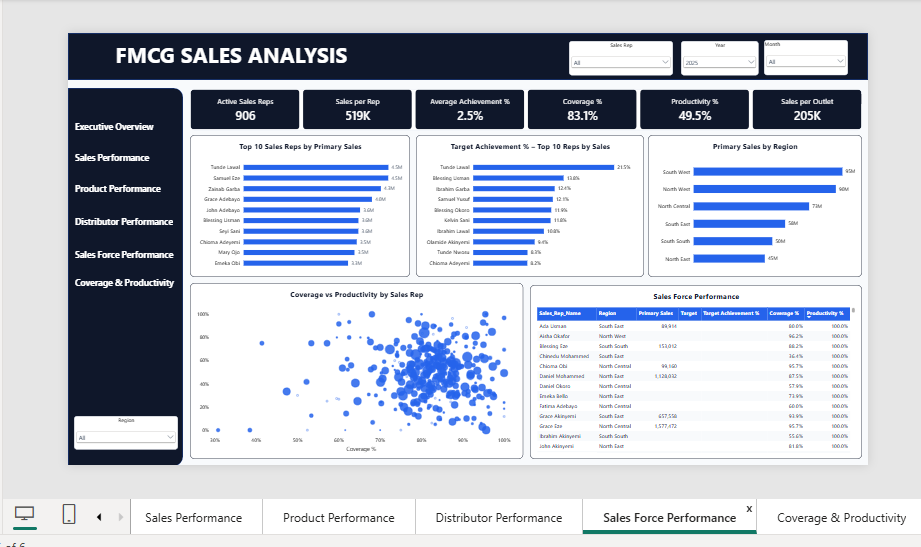

What the dashboard file says about the page in this screenshot:
{"tool":"powerbi","page":{"name":"Sales Force Performance","canvas":[2000,1082],"ordinal":4},"visuals":[{"type":"shape","box":[0,0,2000,117.5],"z":0},{"type":"textbox","box":[0,18,818,78],"z":1000},{"type":"shape","box":[0,137.5,287.5,945],"z":2000},{"type":"textbox","box":[17.5,297.5,237.5,32.5],"z":3000},{"type":"textbox","box":[17.5,220,215,45],"z":4000},{"type":"textbox","box":[17.5,375,255,35],"z":5000},{"type":"textbox","box":[17.5,457.5,255,37.5],"z":6000},{"type":"textbox","box":[17.5,540,255,37.5],"z":7000},{"type":"textbox","box":[17.5,610,255,37.5],"z":8000},{"type":"slicer","title":"Year","fields":{"Values":["DimDate.Year"]},"box":[1532,20,194,86],"z":40300},{"type":"slicer","title":"Month","fields":{"Values":["DimDate.Month"]},"box":[1740,18,210,88],"z":40400},{"type":"slicer","title":"Region","fields":{"Values":["DistributorMaster.Region"]},"box":[14,958,260,84],"z":40500},{"type":"slicer","title":"Sales Rep","fields":{"Values":["SalesRepMaster.Sales_Rep_Name"]},"box":[1252,20,260,86],"z":40600},{"type":"cardVisual","fields":{"Data":["_measures.Active Sales Reps","_measures.Sales per Rep","_measures.Average Achievement %","_measures.Coverage %","_measures.Productivity %","_measures.Sales per Outlet"]},"box":[305,140,1680,102.5],"z":40700},{"type":"clusteredBarChart","title":"Top 10 Sales Reps by Primary Sales","fields":{"Category":["SalesRepMaster.Sales_Rep_Name"],"Y":["_measures.Primary Sales"]},"box":[305,255,550,355],"z":40800},{"type":"clusteredBarChart","title":"Target Achievement % – Top 10 Reps by Sales","fields":{"Category":["SalesRepMaster.Sales_Rep_Name"],"Y":["_measures.Target Achievement %"]},"box":[870,255,570,355],"z":41000},{"type":"scatterChart","title":"Coverage vs Productivity by Sales Rep","fields":{"Category":["SalesRepMaster.Sales_Rep_Name"],"Size":["_measures.Primary Sales"],"X":["_measures.Coverage %"],"Y":["_measures.Productivity %"]},"box":[305,625,832.5,440],"z":41100},{"type":"clusteredBarChart","title":"Primary Sales by Region","fields":{"Category":["DistributorMaster.Region"],"Y":["_measures.Primary Sales"]},"box":[1450,255,535,355],"z":41200},{"type":"tableEx","title":"Sales Force Performance","fields":{"Values":["SalesRepMaster.Sales_Rep_Name","SalesRepMaster.Region","_measures.Primary Sales","_measures.Target","_measures.Target Achievement %","_measures.Coverage %","_measures.Productivity %"]},"box":[1155,630,830,435],"z":41300}]}

Visuals, with their boxes on the page's 2000x1082 design canvas (x1, y1, x2, y2). These are canvas units, not pixel positions in the 921x547 screenshot, which may show the page scaled, cropped or inside an application window:
shape: rect(0, 0, 2000, 118)
textbox: rect(0, 18, 818, 96)
shape: rect(0, 138, 288, 1082)
textbox: rect(18, 298, 255, 330)
textbox: rect(18, 220, 232, 265)
textbox: rect(18, 375, 272, 410)
textbox: rect(18, 458, 272, 495)
textbox: rect(18, 540, 272, 578)
textbox: rect(18, 610, 272, 648)
"Year" slicer: rect(1532, 20, 1726, 106)
"Month" slicer: rect(1740, 18, 1950, 106)
"Region" slicer: rect(14, 958, 274, 1042)
"Sales Rep" slicer: rect(1252, 20, 1512, 106)
cardVisual - _measures.Active Sales Reps x _measures.Sales per Rep: rect(305, 140, 1985, 242)
"Top 10 Sales Reps by Primary Sales" clusteredBarChart: rect(305, 255, 855, 610)
"Target Achievement % – Top 10 Reps by Sales" clusteredBarChart: rect(870, 255, 1440, 610)
"Coverage vs Productivity by Sales Rep" scatterChart: rect(305, 625, 1138, 1065)
"Primary Sales by Region" clusteredBarChart: rect(1450, 255, 1985, 610)
"Sales Force Performance" tableEx: rect(1155, 630, 1985, 1065)
